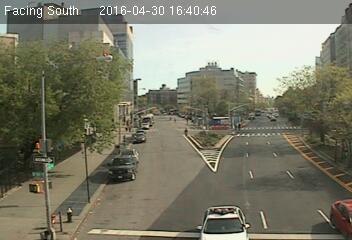neg: (307, 106, 327, 133), (70, 176, 87, 198), (257, 95, 273, 116), (323, 185, 336, 202), (217, 95, 229, 112), (111, 135, 123, 151), (74, 146, 84, 158), (193, 90, 202, 102), (221, 206, 230, 218), (318, 156, 326, 167), (206, 127, 214, 137), (127, 107, 134, 117)
